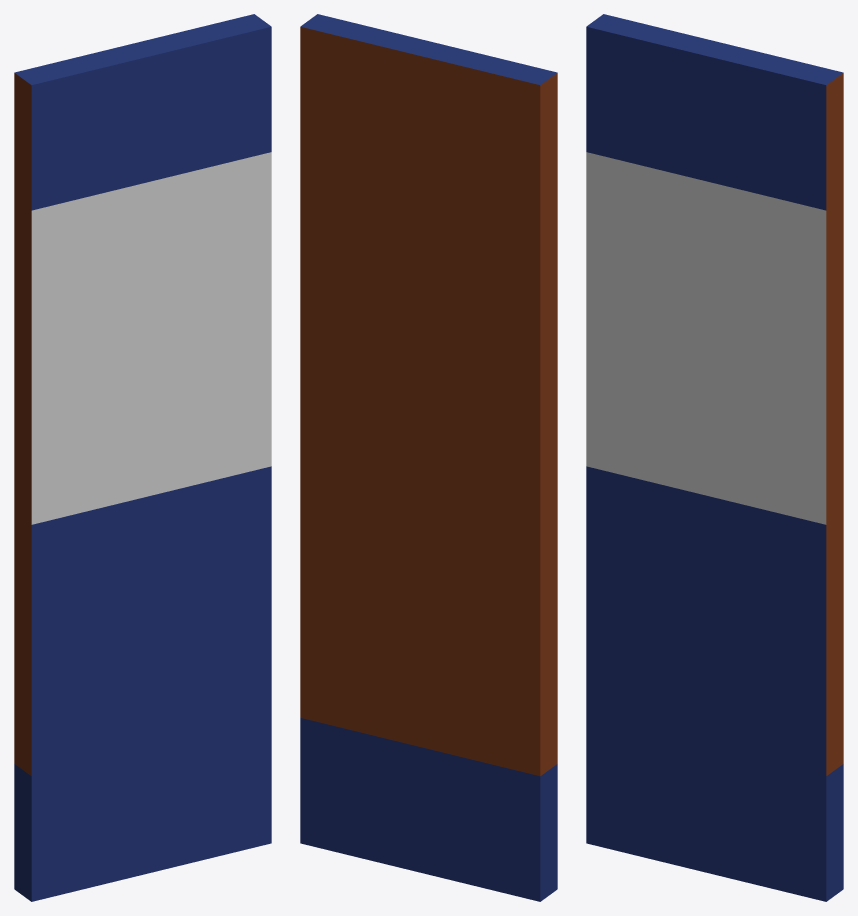
The model's file is cp_wall_tile_80x220.fbx.
The picture shows the model from 3 angles, left to right: view 1: azimuth 30°, elevation 25°; view 2: azimuth 150°, elevation 25°; view 3: azimuth 330°, elevation 25°; orthographic projection.
Parts seen in each view (by area): view 1: wall_tile_80x220; view 2: wall_tile_80x220; view 3: wall_tile_80x220.
Part boxes in pixels (box(x1,y1,x2,y2)): wall_tile_80x220: box(14, 14, 271, 901); wall_tile_80x220: box(300, 14, 557, 901); wall_tile_80x220: box(586, 14, 843, 901).
Size of the model in its own units: 80 by 260 by 10.
1 material, 1 textured.
